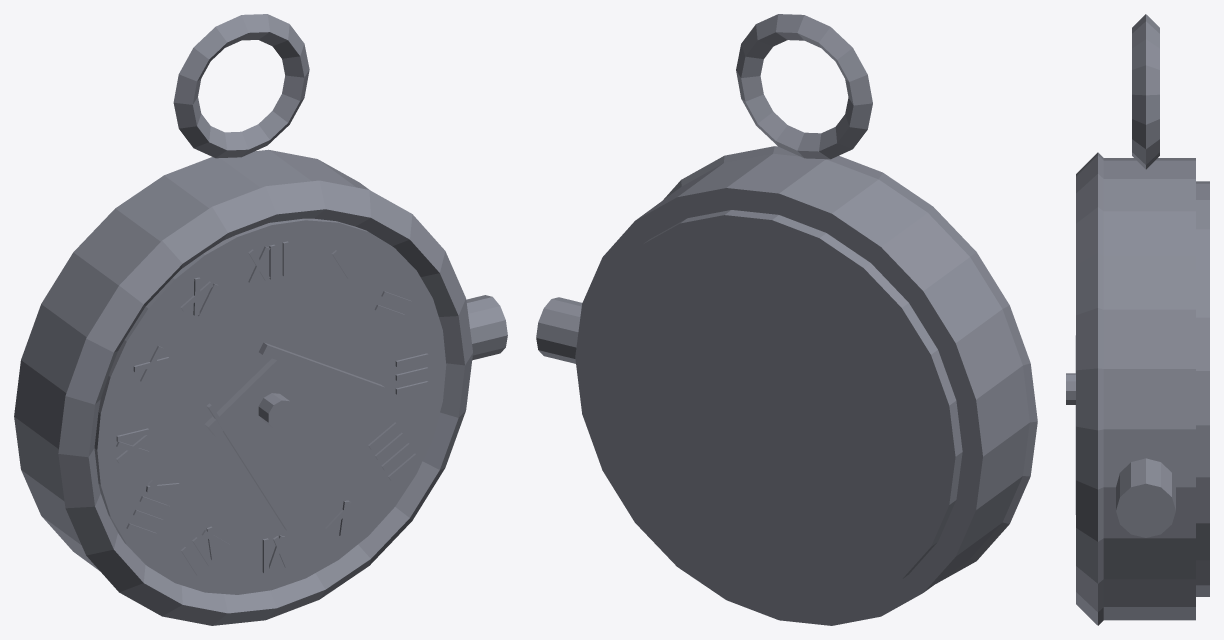
Rendered from rlj_pocket.fbx.
3 renders of one model, left to right at view 1: azimuth 30°, elevation 25°; view 2: azimuth 150°, elevation 25°; view 3: azimuth 270°, elevation 25°, orthographic.
Parts seen in each view (by area): view 1: Esfera__esmalte_blanco, Caja__metal_oro_cepillado, Caja__metal_oro_pulido, Esfera__esmalte_negro, Manecillas__esmalte_azul; view 2: Caja__metal_oro_pulido, Caja__metal_oro_cepillado; view 3: Caja__metal_oro_pulido, Caja__metal_oro_cepillado, Manecillas__esmalte_azul.
Part boxes in pixels (x1,y1,x2,y2): Esfera__esmalte_blanco: [94, 218, 446, 594]; Caja__metal_oro_cepillado: [58, 180, 472, 625]; Caja__metal_oro_pulido: [14, 14, 507, 570]; Esfera__esmalte_negro: [116, 241, 428, 575]; Manecillas__esmalte_azul: [204, 342, 384, 530]; Caja__metal_oro_pulido: [536, 14, 1029, 625]; Caja__metal_oro_cepillado: [663, 146, 1037, 583]; Caja__metal_oro_pulido: [1103, 14, 1209, 620]; Caja__metal_oro_cepillado: [1076, 152, 1103, 625]; Manecillas__esmalte_azul: [1066, 335, 1075, 514].
Size of the model in its own units: 131 by 161 by 36.
